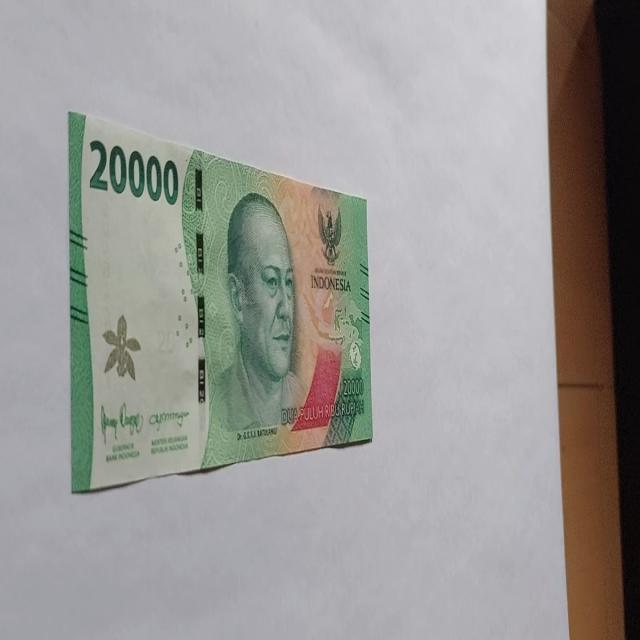dua puluh ribu rupiah: (67, 109, 373, 494)
